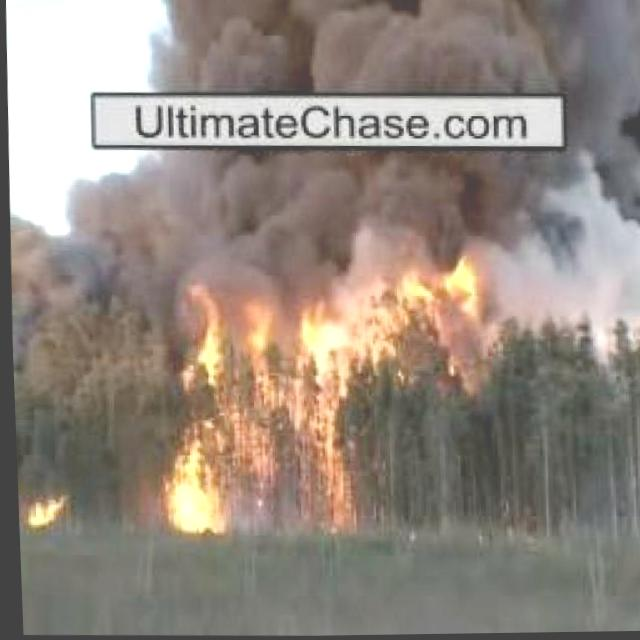helmet: (151, 267, 341, 536), (379, 234, 491, 366), (16, 489, 64, 534)
no_helmet: (63, 144, 640, 261), (141, 0, 640, 101)
